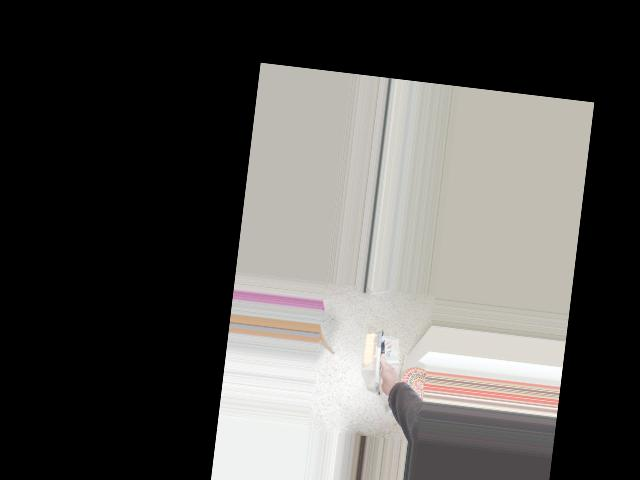cheese: (341, 332, 415, 408)
